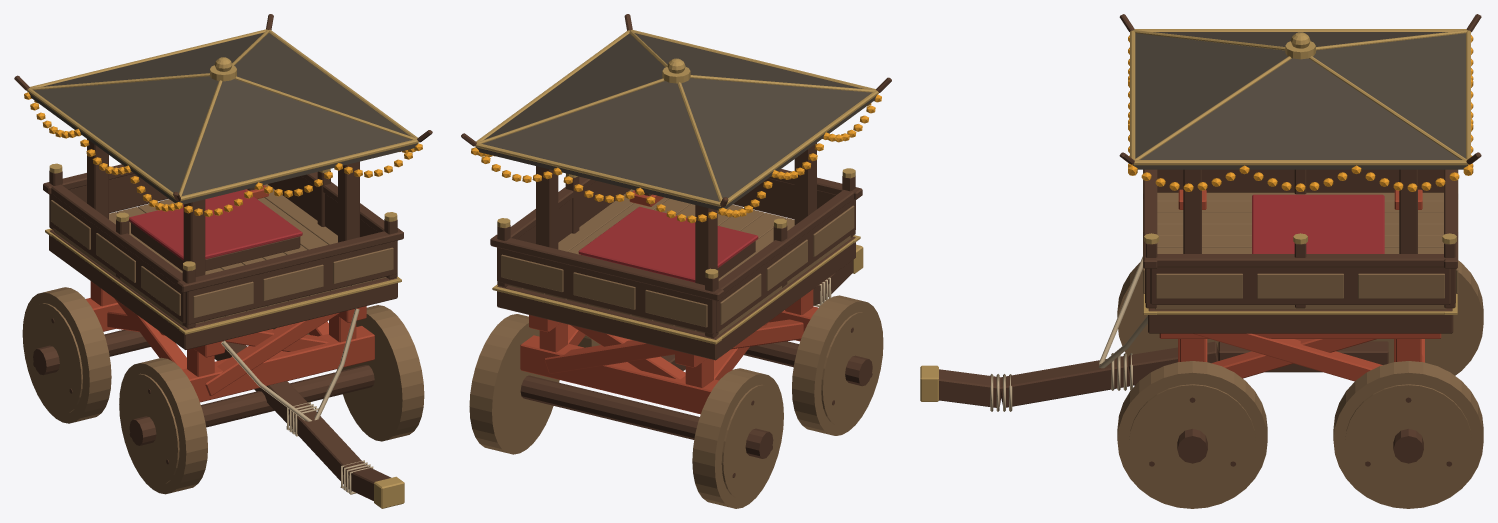
The model's file is bhairab_rath_blockout_v01.glb.
3 views of the same model, side by side, from view 1: azimuth 30°, elevation 25°; view 2: azimuth 150°, elevation 25°; view 3: azimuth 270°, elevation 25° (orthographic). The views are drawn at different scales.
Parts seen in each view (by area): view 1: RoofRoot_Mesh, PlatformRoot_Mesh, ChassisRoot_Mesh, PavilionRoot_Mesh, Wheel_RL_Mesh, Wheel_FL_Mesh, Wheel_FR_Mesh, DrawbeamRoot_Mesh, GarlandRoot_Mesh; view 2: RoofRoot_Mesh, PlatformRoot_Mesh, ChassisRoot_Mesh, PavilionRoot_Mesh, Wheel_RL_Mesh, Wheel_FL_Mesh, Wheel_RR_Mesh, GarlandRoot_Mesh, DrawbeamRoot_Mesh; view 3: RoofRoot_Mesh, PlatformRoot_Mesh, Wheel_FR_Mesh, Wheel_RR_Mesh, PavilionRoot_Mesh, DrawbeamRoot_Mesh, ChassisRoot_Mesh, Wheel_RL_Mesh, GarlandRoot_Mesh, Wheel_FL_Mesh.
Part boxes in pixels (<box>): RoofRoot_Mesh: <box>14,14,432,204</box>; PlatformRoot_Mesh: <box>43,163,403,349</box>; ChassisRoot_Mesh: <box>86,281,374,427</box>; PavilionRoot_Mesh: <box>87,139,359,276</box>; Wheel_RL_Mesh: <box>22,287,111,423</box>; Wheel_FL_Mesh: <box>119,357,207,494</box>; Wheel_FR_Mesh: <box>337,305,424,441</box>; DrawbeamRoot_Mesh: <box>214,308,404,508</box>; GarlandRoot_Mesh: <box>24,92,422,216</box>; RoofRoot_Mesh: <box>461,14,891,210</box>; PlatformRoot_Mesh: <box>490,168,862,360</box>; ChassisRoot_Mesh: <box>520,289,818,439</box>; PavilionRoot_Mesh: <box>536,143,816,285</box>; Wheel_RL_Mesh: <box>692,368,783,508</box>; Wheel_FL_Mesh: <box>792,295,883,435</box>; Wheel_RR_Mesh: <box>469,314,559,454</box>; GarlandRoot_Mesh: <box>471,94,881,223</box>; DrawbeamRoot_Mesh: <box>661,244,863,370</box>; RoofRoot_Mesh: <box>1119,14,1481,169</box>; PlatformRoot_Mesh: <box>1143,169,1458,333</box>; Wheel_FR_Mesh: <box>1117,361,1267,508</box>; Wheel_RR_Mesh: <box>1333,361,1483,508</box>; PavilionRoot_Mesh: <box>1178,169,1422,253</box>; DrawbeamRoot_Mesh: <box>920,256,1388,411</box>; ChassisRoot_Mesh: <box>1159,333,1441,381</box>; Wheel_RL_Mesh: <box>1370,260,1483,375</box>; GarlandRoot_Mesh: <box>1128,35,1473,191</box>; Wheel_FL_Mesh: <box>1117,262,1218,356</box>.
Size of the model in its own units: 2.56 by 3.32 by 4.13.
